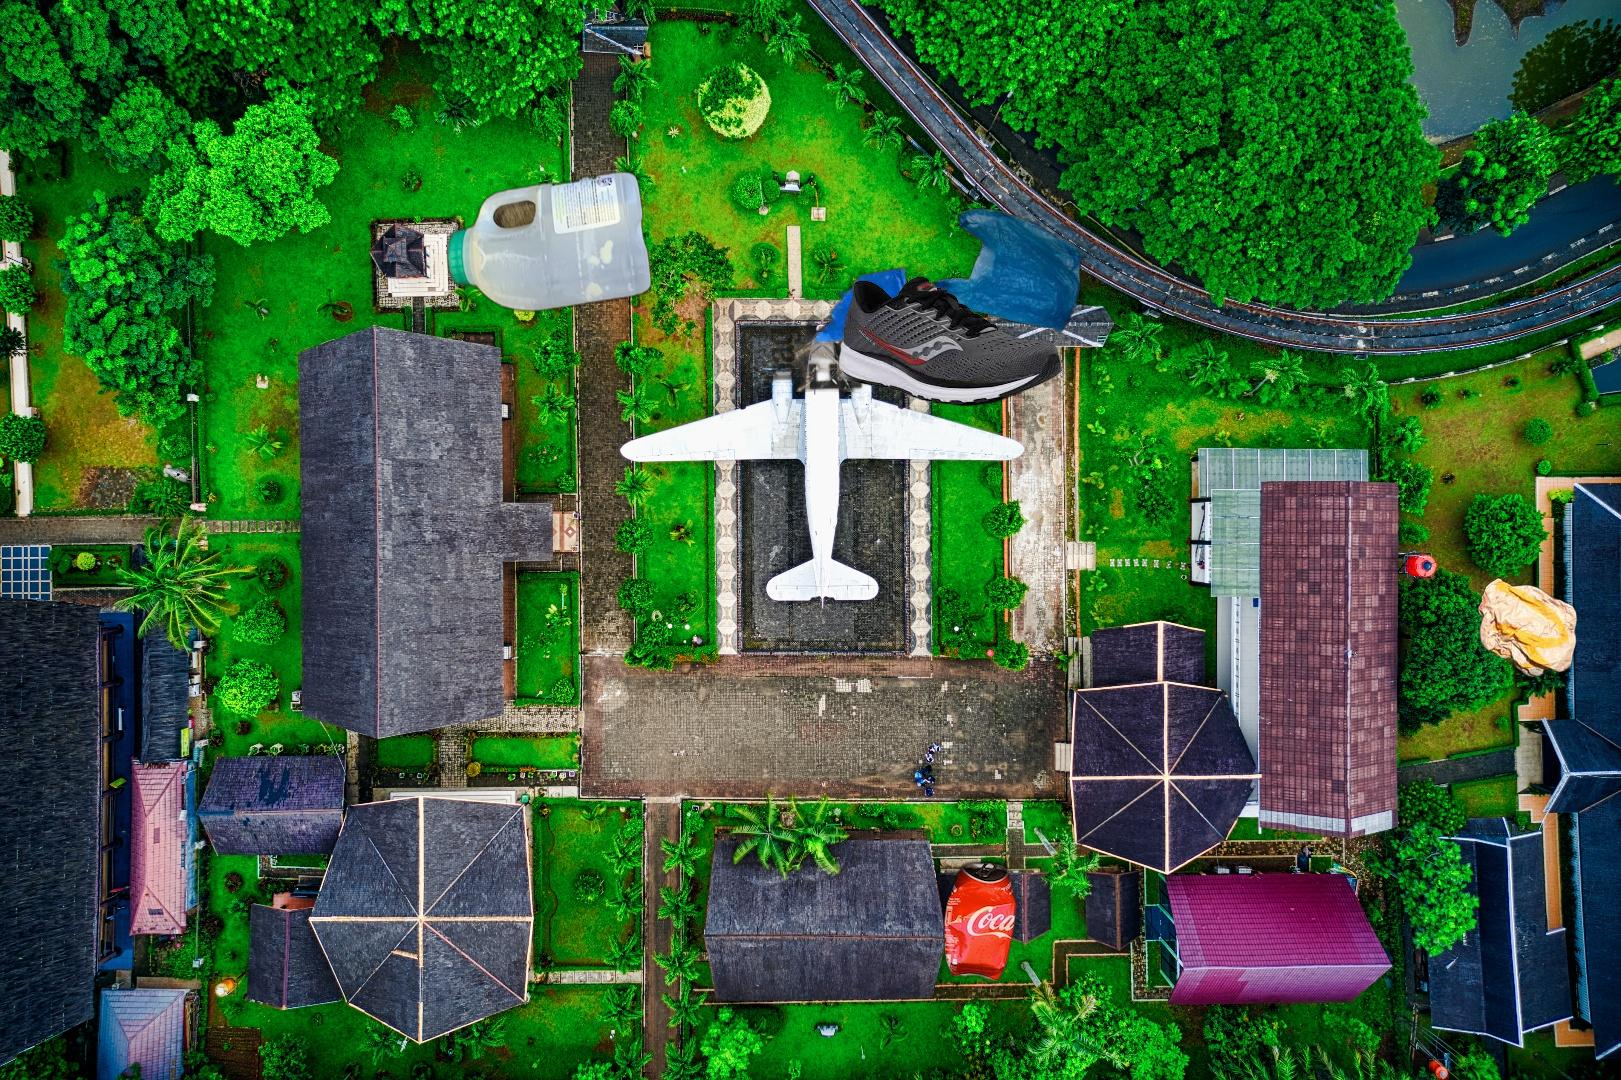metal-cans: (939, 855, 1022, 988)
paper-bag: (1476, 575, 1580, 679)
plastic-bag: (930, 207, 1088, 335)
plastic-bottles: (442, 165, 656, 318)
shoes: (838, 274, 1063, 409)
trashbox-cardboard: (660, 8, 938, 392)
